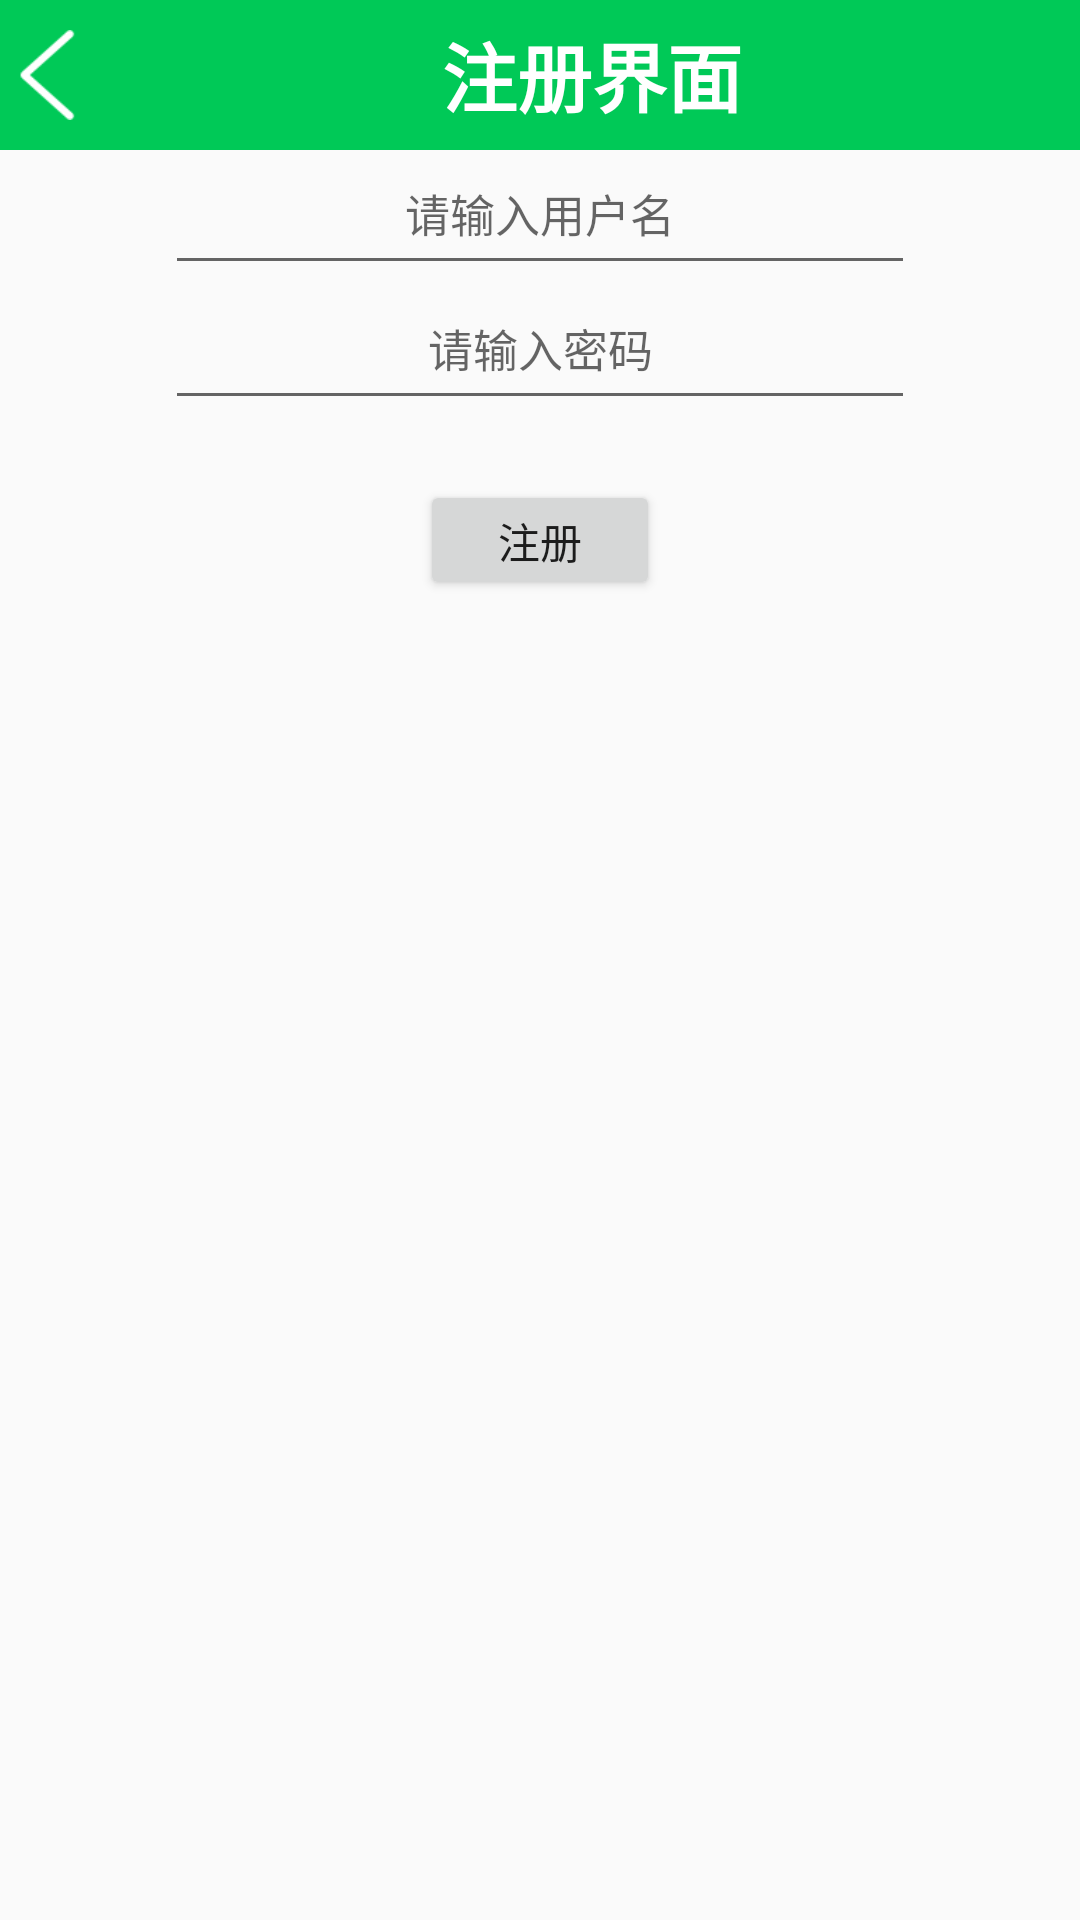

Screen size 1080 × 1920. Icon name, then its center in pixels as (x=x, y=y):
back: (x=47, y=75)
